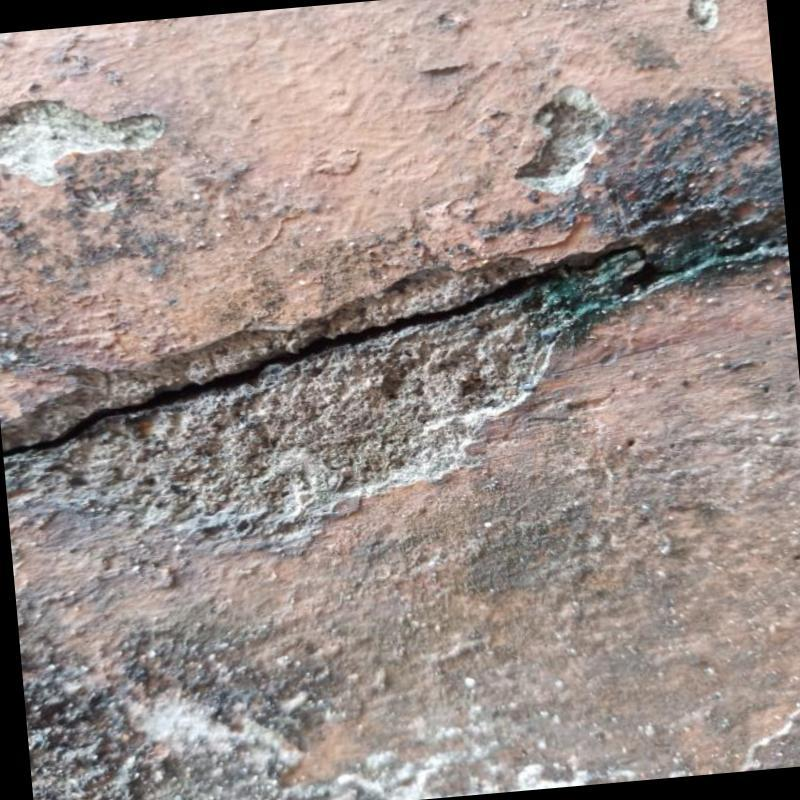pothole: (7, 249, 673, 456)
